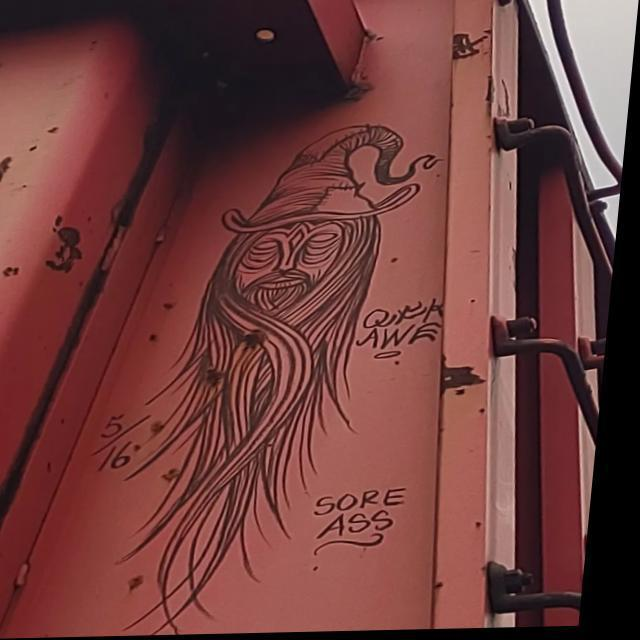-: (145, 120, 478, 636)
